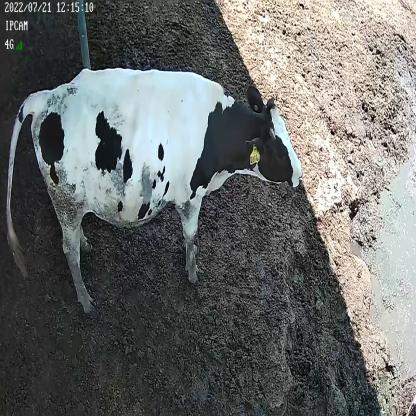cow: (7, 66, 302, 310)
